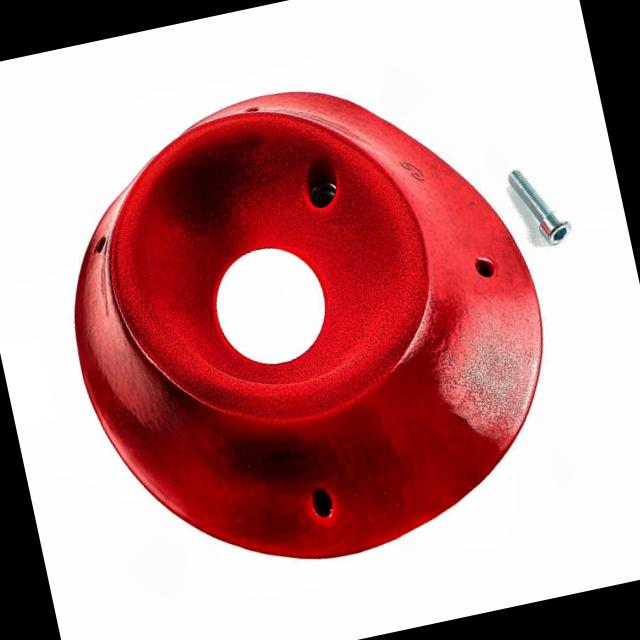Hold: (28, 49, 585, 611)
